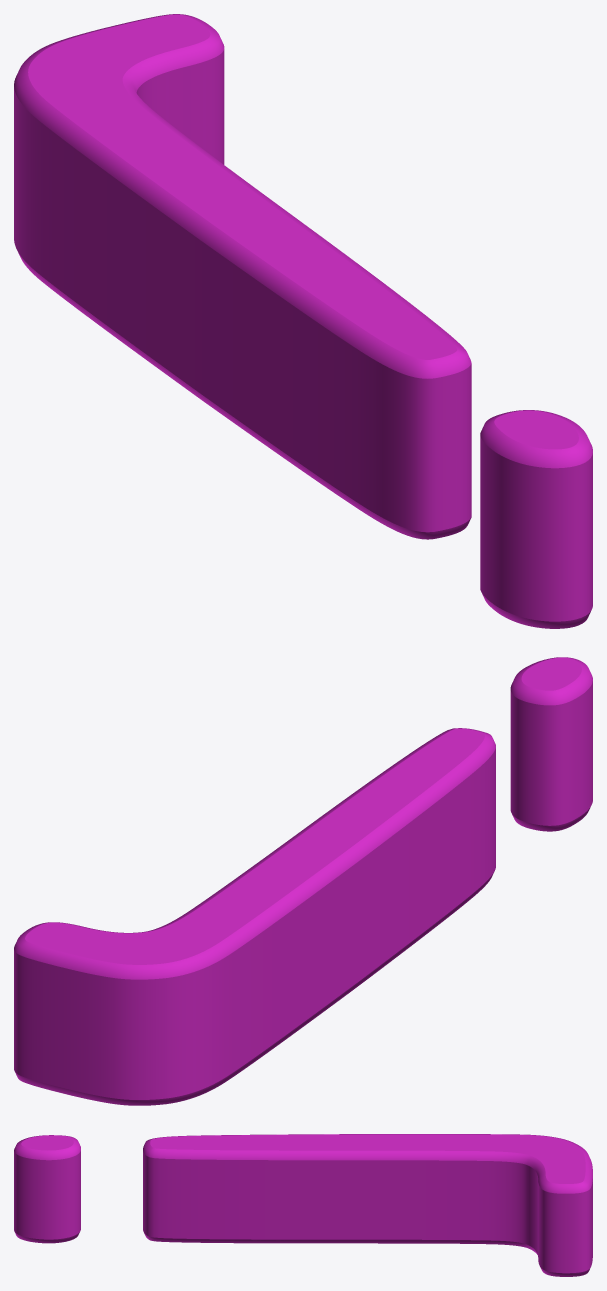
File: Blocky_Letter_j.fbx
3 renders of one model, top to bottom at view 1: azimuth 30°, elevation 25°; view 2: azimuth 150°, elevation 25°; view 3: azimuth 270°, elevation 25°, orthographic. The views are drawn at different scales.
Visible parts, largest first — view 1: BlockyLetter_j; view 2: BlockyLetter_j; view 3: BlockyLetter_j.
Boxes of the visible parts, box(x1,y1,x2,y2) form: BlockyLetter_j: box(14, 14, 592, 628); BlockyLetter_j: box(14, 657, 592, 1105); BlockyLetter_j: box(14, 1134, 592, 1276).
Bounding box in the file's own units: 0.1816 × 0.14 × 0.793.
